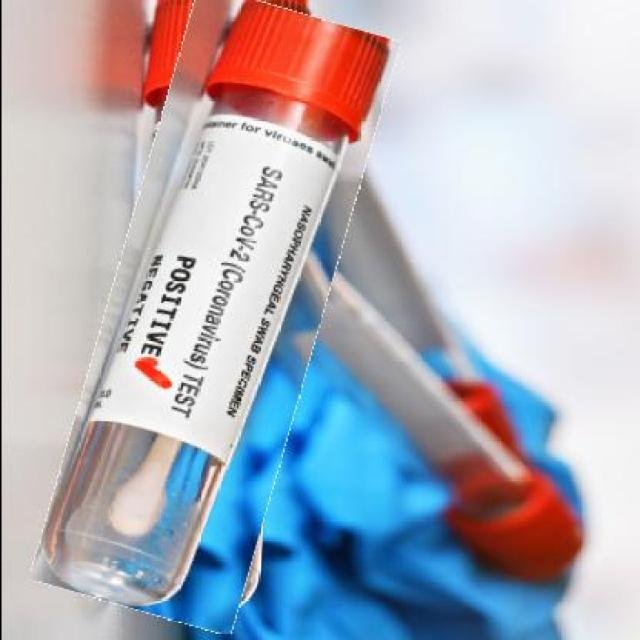Experimental-tube: (66, 0, 359, 628)
